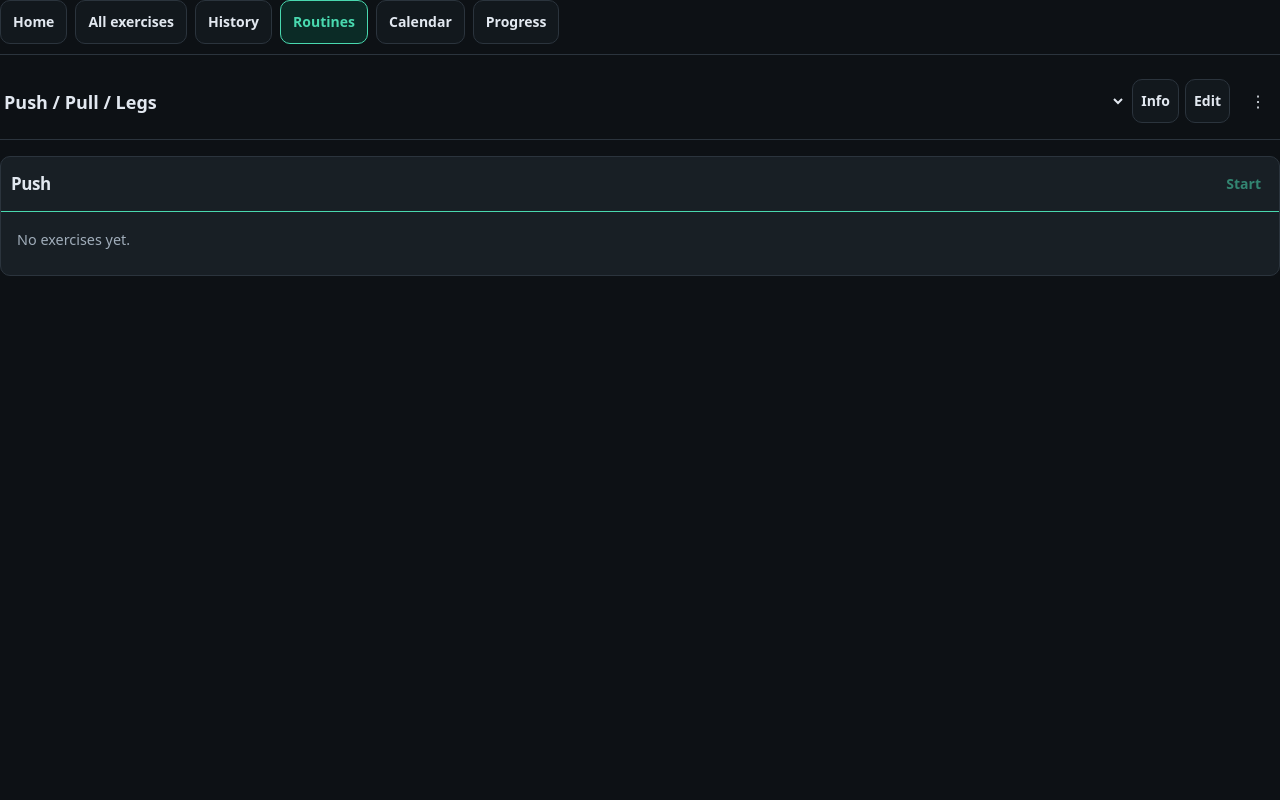
Test case: explains plans versus templates and guides empty templates into exercise setup
Expected: the button with aria-label "Start Push" is disabled, [1218,162,1269,206]
Expected: the text "A routine is a reusable plan" is not shown
What coordinates should you click on to do the following:
click the button with aria-label "Routine info"
I would click on:
 (1156, 101)
Its box is [1132,79,1179,123].
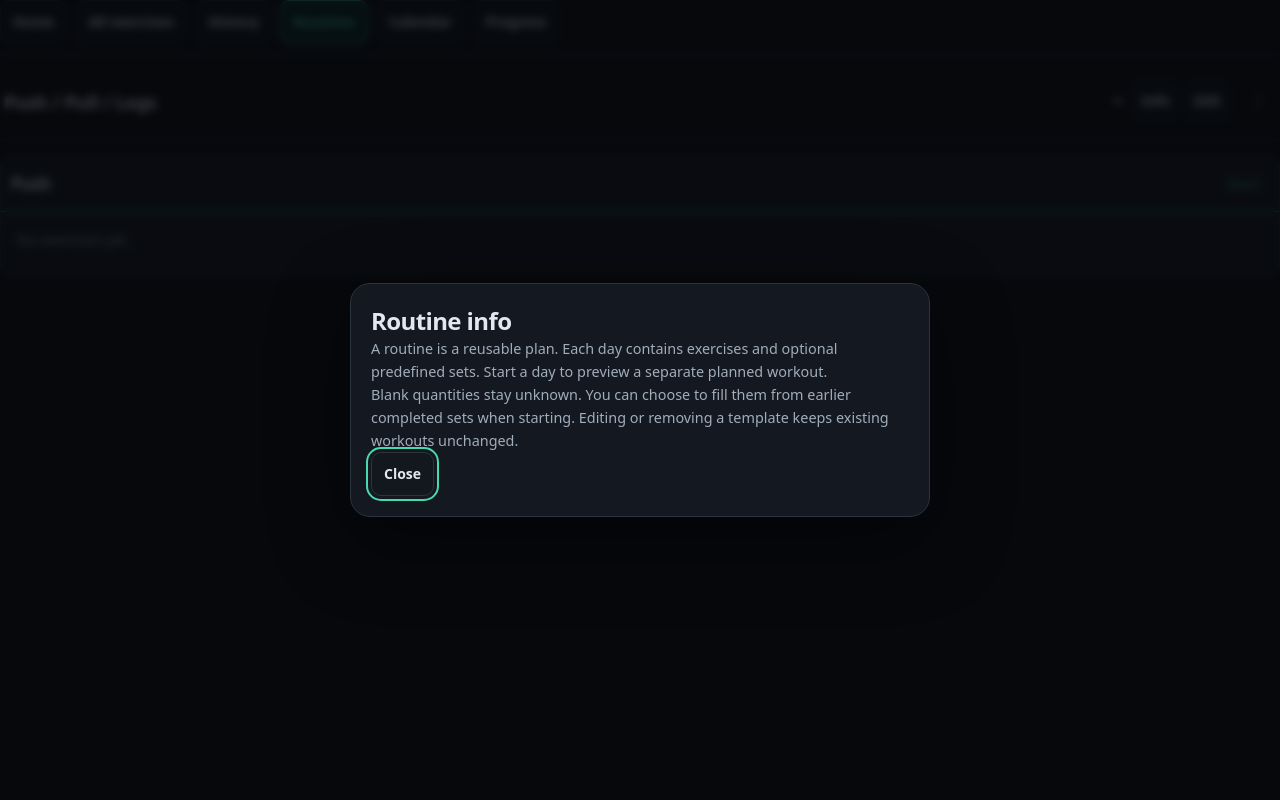
Expected: the dialog "Routine info" shows "A routine is a reusable plan", [371,339,837,381]
What coordinates should you click on to do the following:
click the button "Close"
I would click on:
 (403, 474)
Its box is [371,452,434,496].
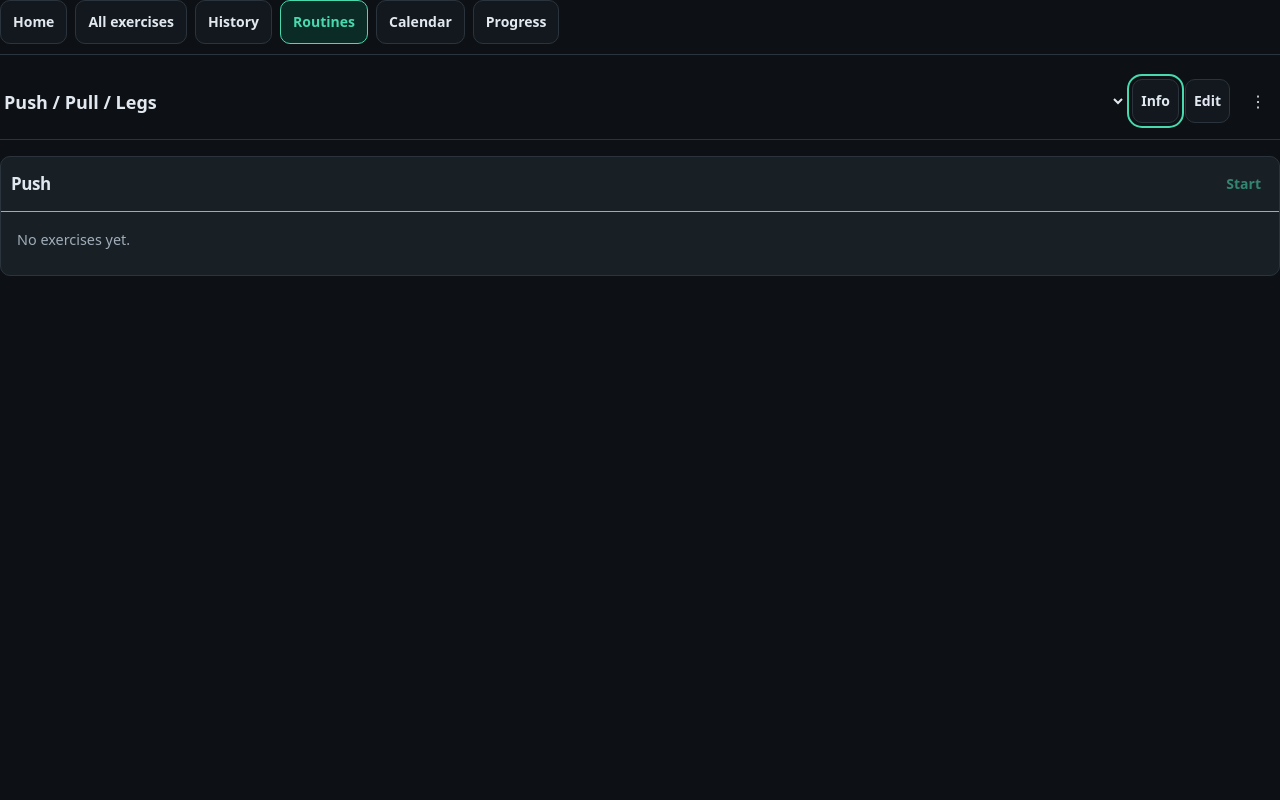
What coordinates should you click on to do the following:
click the button with aria-label "Edit routine exercises"
I would click on:
 (1207, 101)
Its box is [1185,79,1230,123].
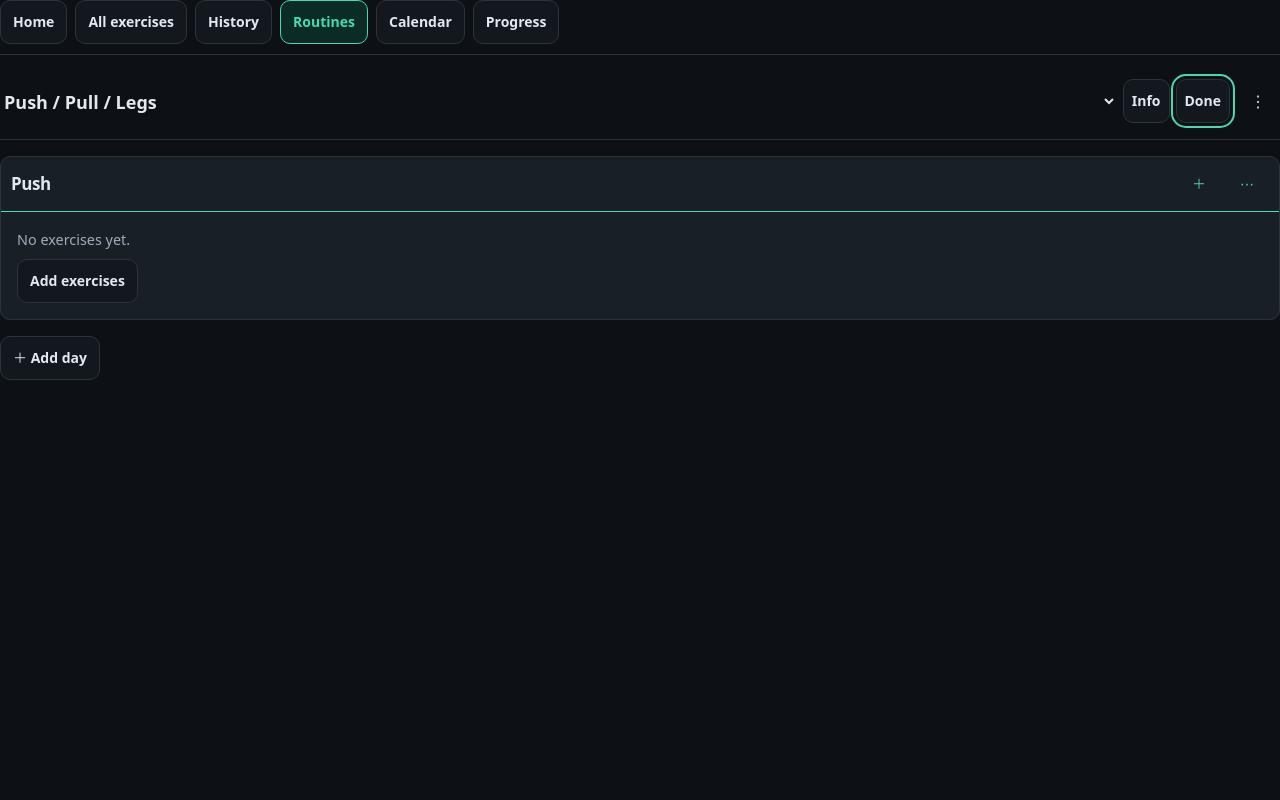
What coordinates should you click on to do the following:
click the button "Add exercises"
I would click on:
 (77, 281)
Its box is [17,259,138,303].
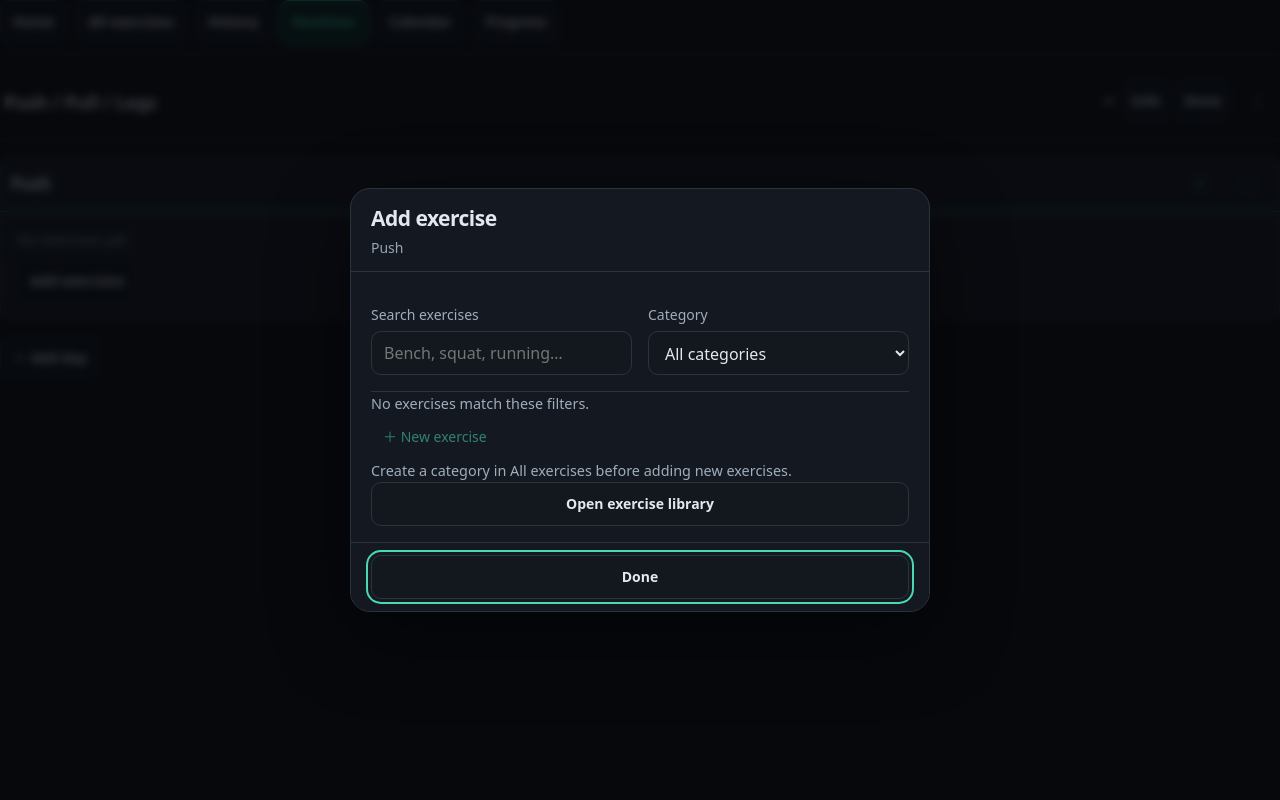
Expected: the dialog "Add exercise" is shown, [350,188,930,612]
